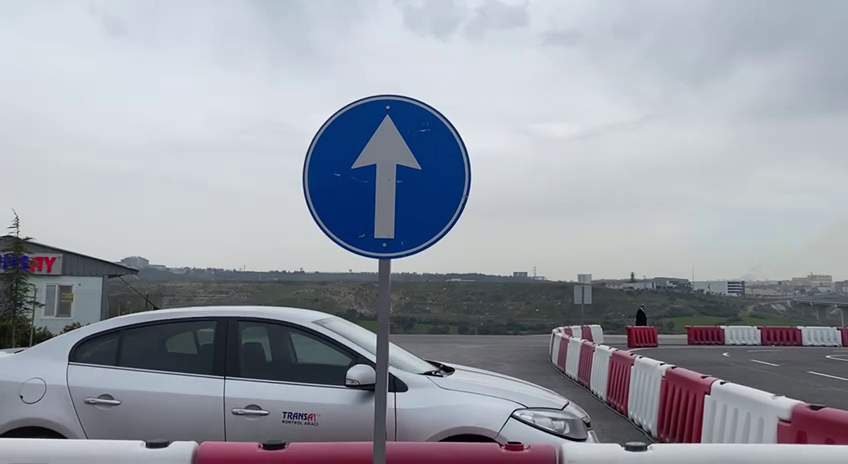forward: (300, 88, 475, 263)
